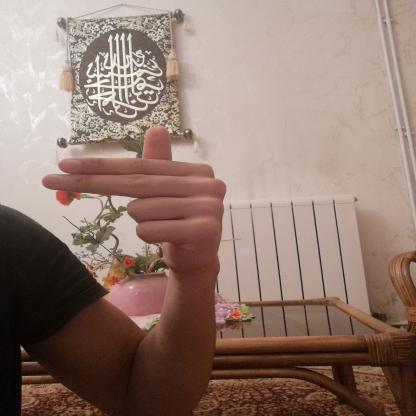GHAYN: (27, 116, 242, 277)
